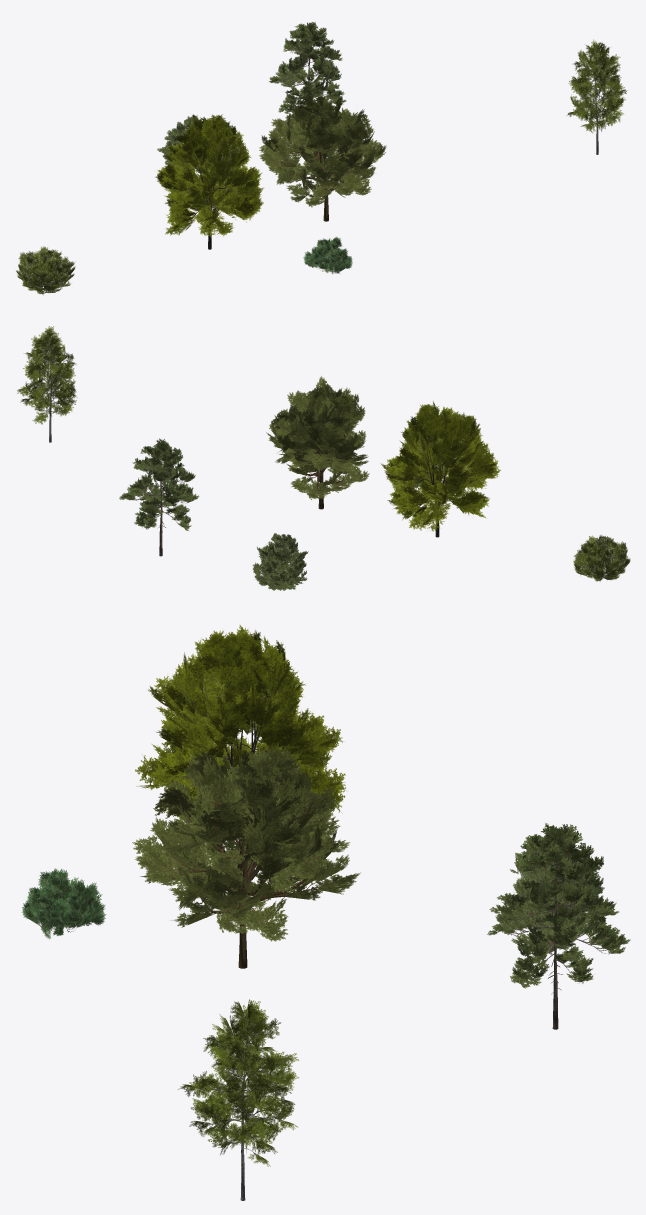
File: tree-mediterranean-pack.glb
3 renders of one model, top to bottom at view 1: azimuth 30°, elevation 25°; view 2: azimuth 150°, elevation 25°; view 3: azimuth 270°, elevation 25°, orthographic. The views are drawn at different scales.
Parts seen in each view (by area): view 1: Oak_25, Maple_24, PineTree_19, Birch1_20, DeciduousShrub_27, HollyShrub_4, ConiferousShrub_16; view 2: Maple_24, Oak_25, PineTree_19, Birch1_20, ConiferousShrub_16, DeciduousShrub_27; view 3: Oak_25, Maple_24, PineTree_19, Birch1_20, HollyShrub_4, ConiferousShrub_16.
Part boxes in pixels (box(x1,y1,x2,y2)): Oak_25: box(259, 93, 386, 221); Maple_24: box(155, 114, 263, 249); PineTree_19: box(269, 22, 346, 113); Birch1_20: box(567, 39, 627, 154); DeciduousShrub_27: box(16, 246, 75, 295); HollyShrub_4: box(303, 236, 352, 273); ConiferousShrub_16: box(157, 114, 202, 173); Maple_24: box(380, 401, 500, 537); Oak_25: box(266, 376, 369, 509); PineTree_19: box(119, 438, 199, 556); Birch1_20: box(17, 326, 76, 442); ConiferousShrub_16: box(252, 533, 308, 590); DeciduousShrub_27: box(573, 535, 630, 581); Oak_25: box(132, 746, 360, 968); Maple_24: box(135, 625, 345, 841); PineTree_19: box(487, 823, 630, 1029); Birch1_20: box(178, 999, 299, 1200); HollyShrub_4: box(21, 868, 106, 939); ConiferousShrub_16: box(497, 849, 603, 932).
Size of the model in its own units: 94 by 19.98 by 46.89.
Materials: 11 (11 with a texture image).
